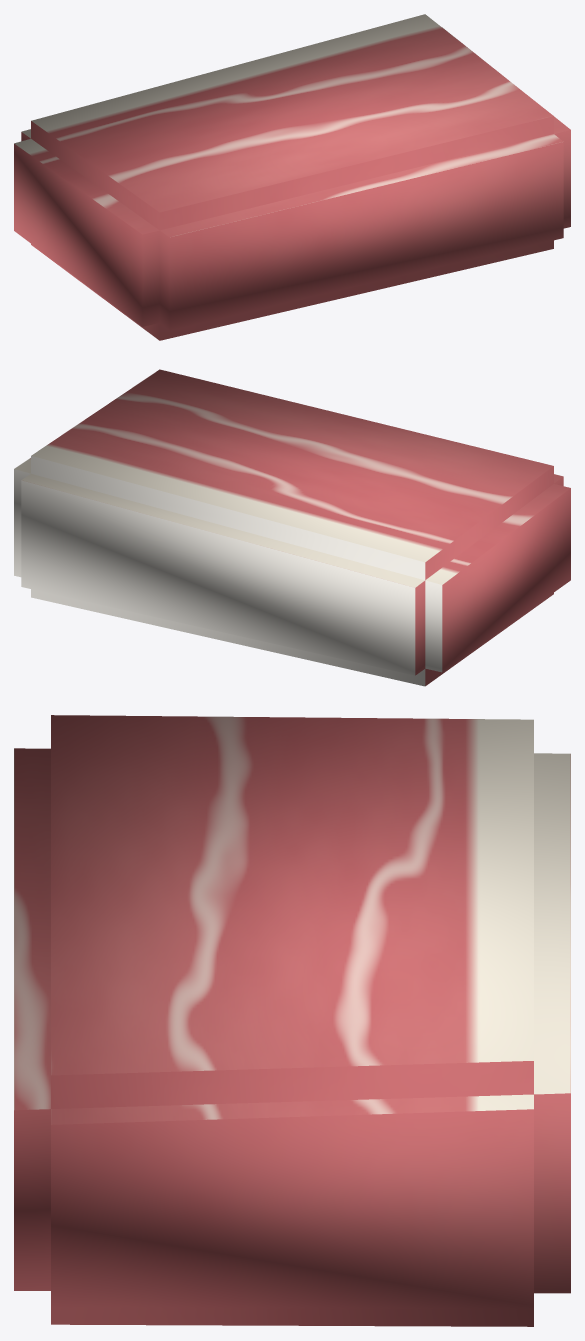
Rendered from Pork_Portion.fbx.
3 views of the same model, one above another, from view 1: azimuth 30°, elevation 25°; view 2: azimuth 150°, elevation 25°; view 3: azimuth 270°, elevation 25° (orthographic). The views are drawn at different scales.
Visible parts, largest first — view 1: Pork_Portion; view 2: Pork_Portion; view 3: Pork_Portion.
Boxes of the visible parts, left/top/right/bottom form: Pork_Portion: left=14, top=14, right=570, bottom=340; Pork_Portion: left=14, top=369, right=570, bottom=686; Pork_Portion: left=14, top=715, right=570, bottom=1326.
Size of the model in its own units: 0.1 by 0.0316 by 0.06.
2 materials, 1 textured.
